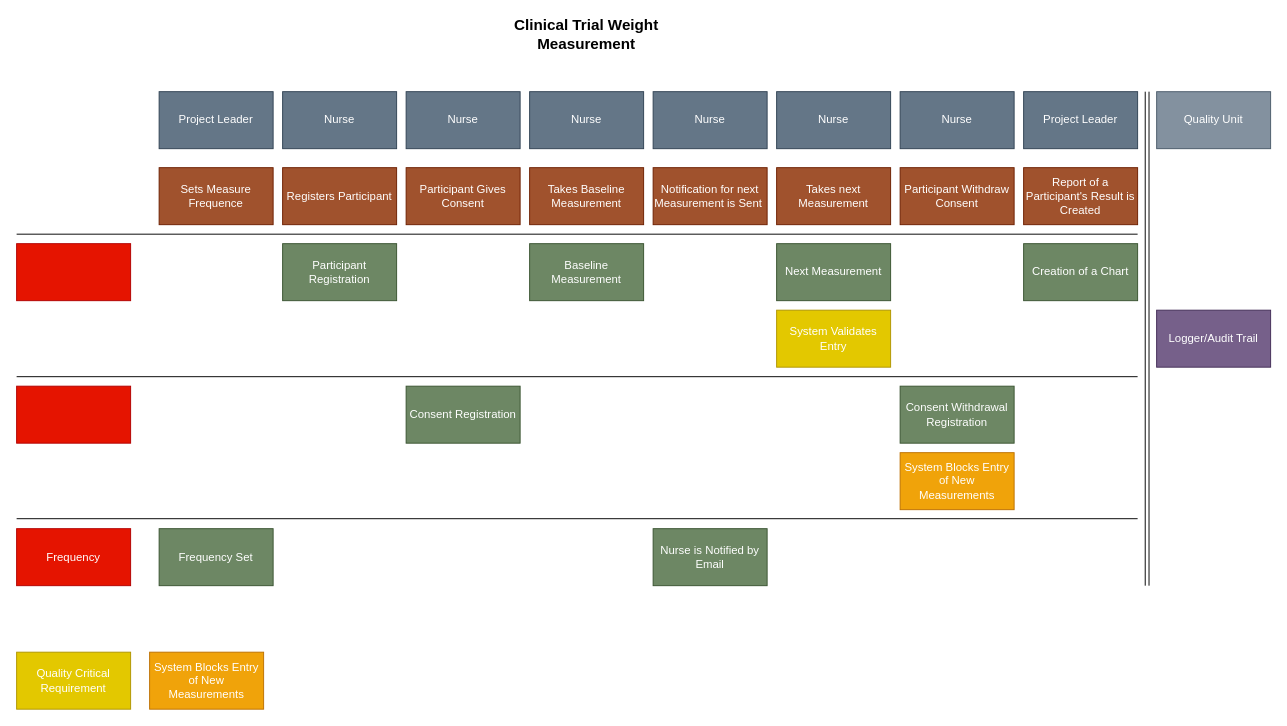
The diagram is 1287 pixels wide and 726 high, and some of its shapes have lost their labels. The shapes that lost their labels are listed below. From the top down, each one's box as (x1, y1, x2, y2) in pixels, then its label:
(16, 243, 131, 301): MVP
(16, 385, 131, 443): Consent
